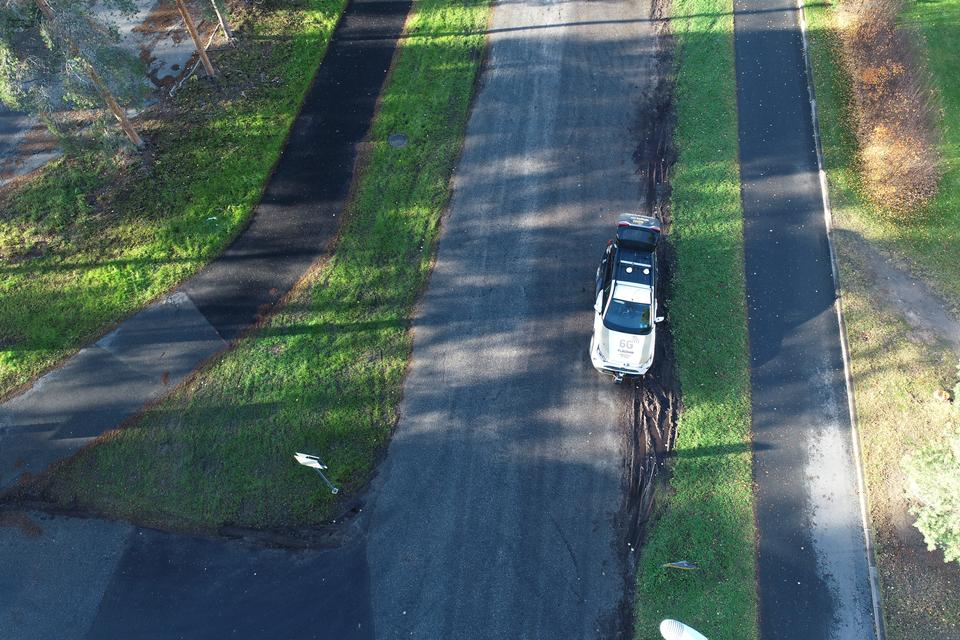intersection: (0, 308, 714, 640)
